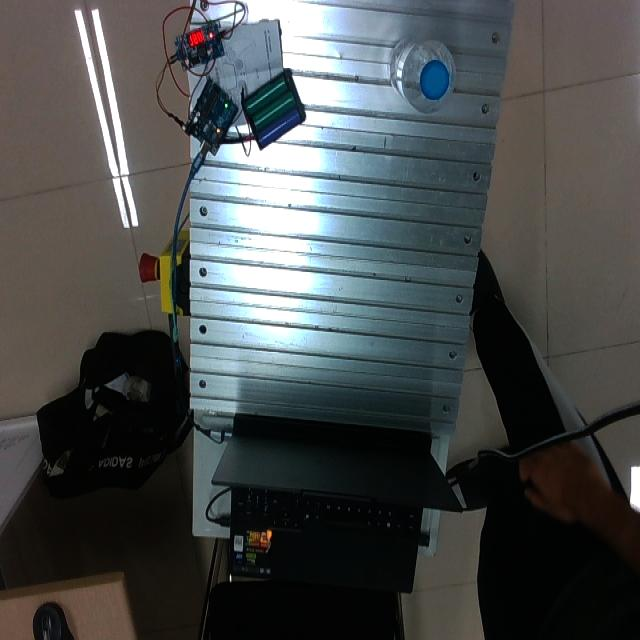lavie: (389, 36, 457, 116)
